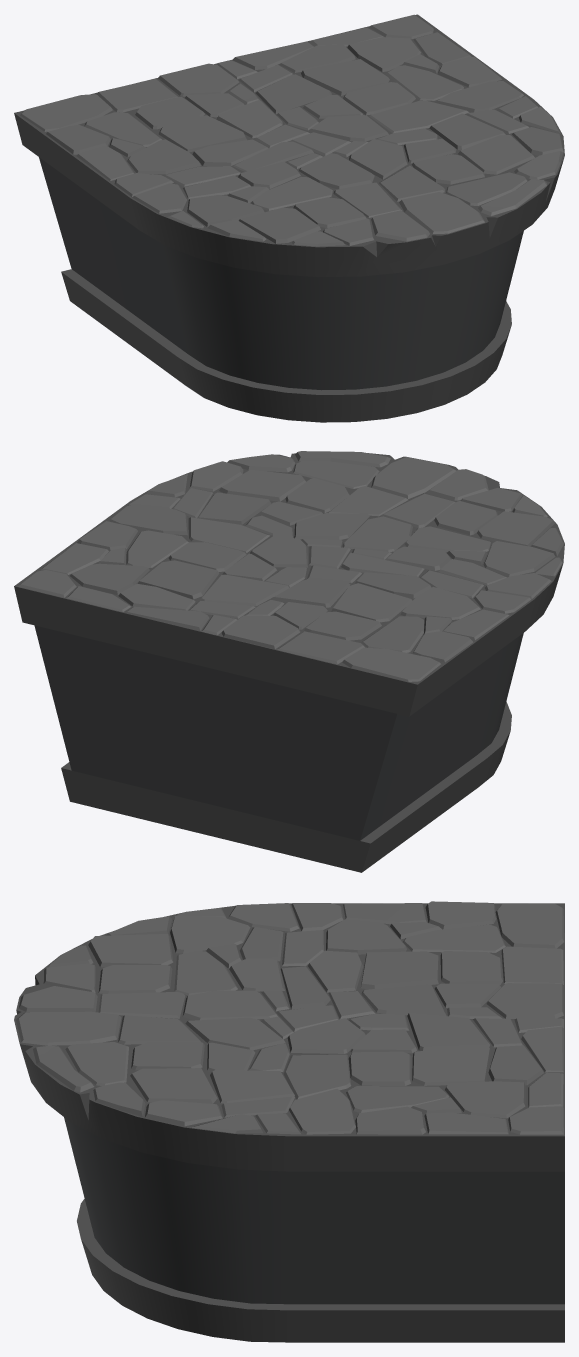
Rendered from platform_002.glb.
3 views of the same model, one above another, from view 1: azimuth 30°, elevation 25°; view 2: azimuth 150°, elevation 25°; view 3: azimuth 270°, elevation 25° (orthographic). The views are drawn at different scales.
Visible parts, largest first — view 1: platform_002; view 2: platform_002; view 3: platform_002.
Boxes of the visible parts, left/top/right/bottom form: platform_002: left=14, top=14, right=564, bottom=422; platform_002: left=14, top=451, right=564, bottom=872; platform_002: left=14, top=901, right=564, bottom=1342.
Size of the model in its own units: 10 by 4.86 by 10.
1 material, 1 textured.
